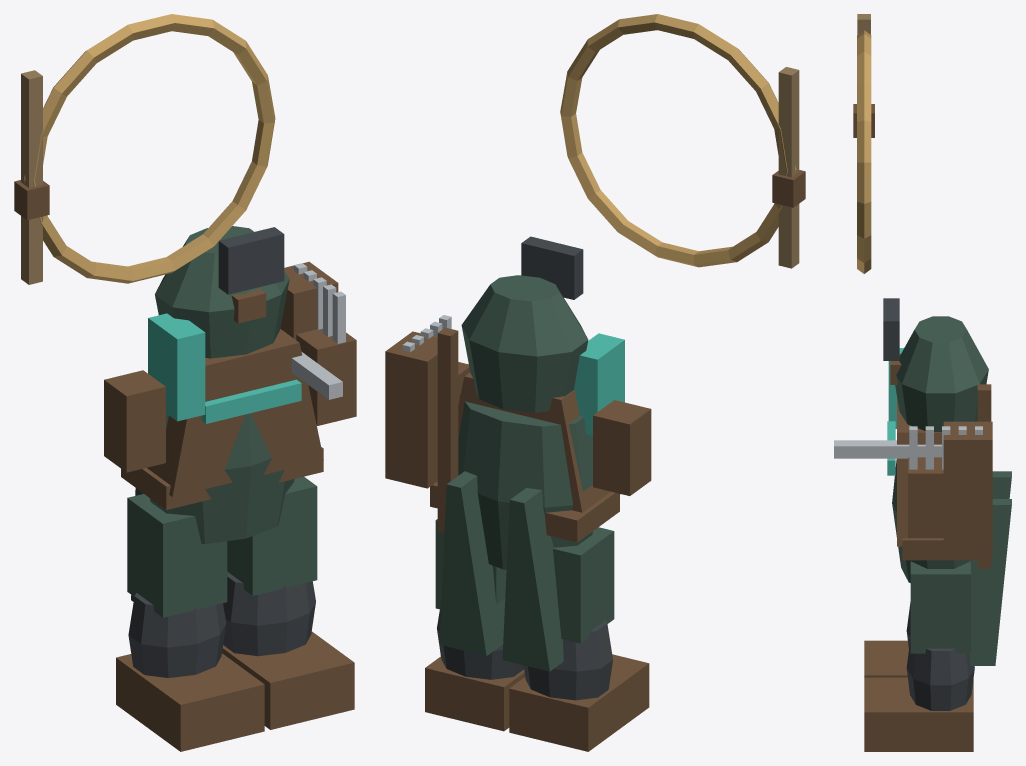
The model's file is unit-ranger.glb.
3 views of the same model, side by side, from view 1: azimuth 30°, elevation 25°; view 2: azimuth 150°, elevation 25°; view 3: azimuth 270°, elevation 25° (orthographic). The views are drawn at different scales.
Parts seen in each view (by area): view 1: Body, LegL, LegR, Weapon; view 2: Body, LegL, Weapon, LegR; view 3: Body, LegR, Weapon, LegL.
Boxes of the visible parts, bbox=[...] form: Body: bbox=[104, 226, 356, 601]; LegL: bbox=[116, 494, 264, 751]; LegR: bbox=[222, 476, 354, 729]; Weapon: bbox=[14, 14, 275, 284]; Body: bbox=[385, 236, 651, 671]; LegL: bbox=[509, 527, 649, 751]; Weapon: bbox=[560, 14, 805, 268]; LegR: bbox=[425, 519, 525, 731]; Body: bbox=[834, 298, 1011, 665]; LegR: bbox=[864, 561, 974, 751]; Weapon: bbox=[853, 14, 874, 273]; LegL: bbox=[864, 602, 910, 677].
Bounding box in the file's own units: 1.3 × 2.52 × 0.65.
